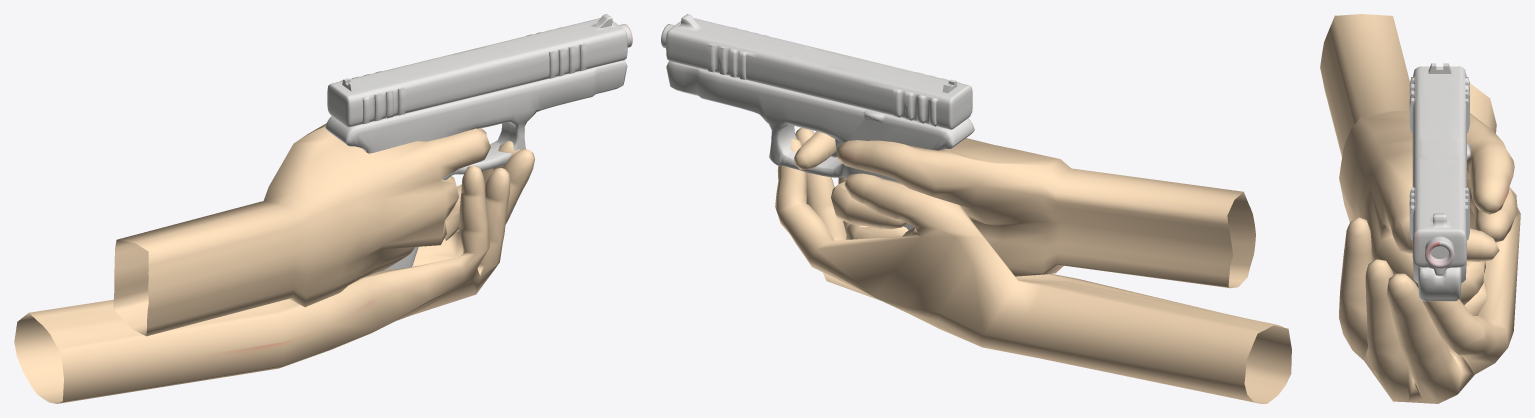
Rendered from fp_hands.glb.
3 renders of one model, left to right at view 1: azimuth 30°, elevation 25°; view 2: azimuth 150°, elevation 25°; view 3: azimuth 270°, elevation 25°, orthographic. The views are drawn at different scales.
Visible parts, largest first — view 1: Hands; view 2: Hands; view 3: Hands.
Part boxes in pixels (bbox=[...]): Hands: bbox=[14, 14, 632, 403]; Hands: bbox=[661, 14, 1291, 403]; Hands: bbox=[1320, 14, 1520, 403].
Bounding box in the file's own units: 7.71 × 3.17 × 1.88.
1 material, 1 textured.
